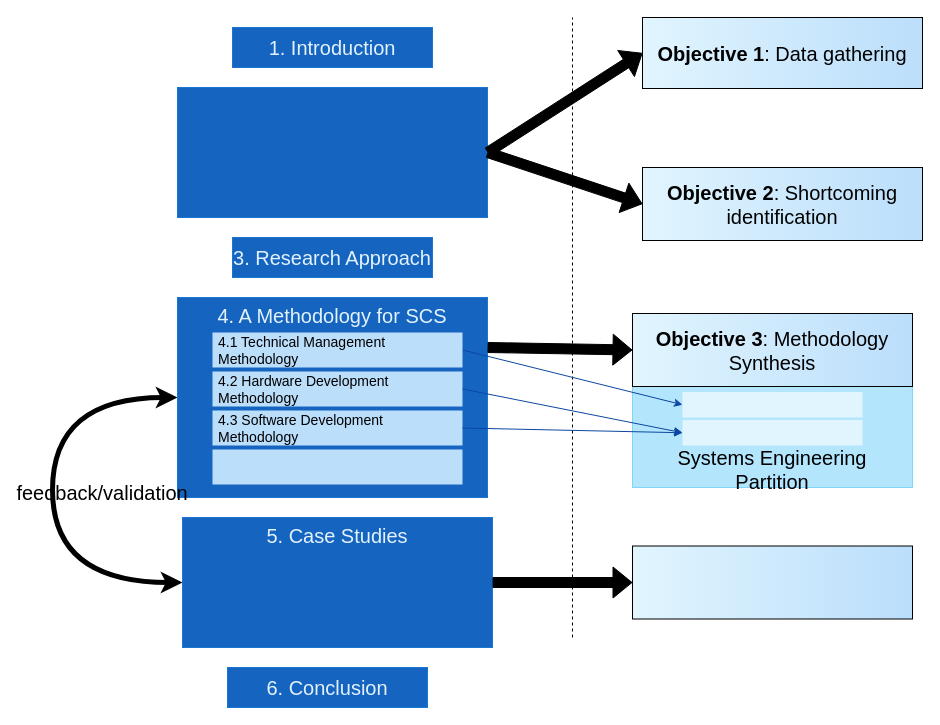
Some shapes in this 940 by 725 pixel diagram are drawn without their labels. The centre of each missing label's shape, as x and y in pixels:
"2. Literature Survey" goes at point (332, 152).
"4.4 Methodology Tailoring" goes at point (337, 466).
"Objective 4 : Methodology Validation" goes at point (772, 582).
"System Design & Realisation" goes at point (772, 432).
"Technical Management" goes at point (772, 404).
